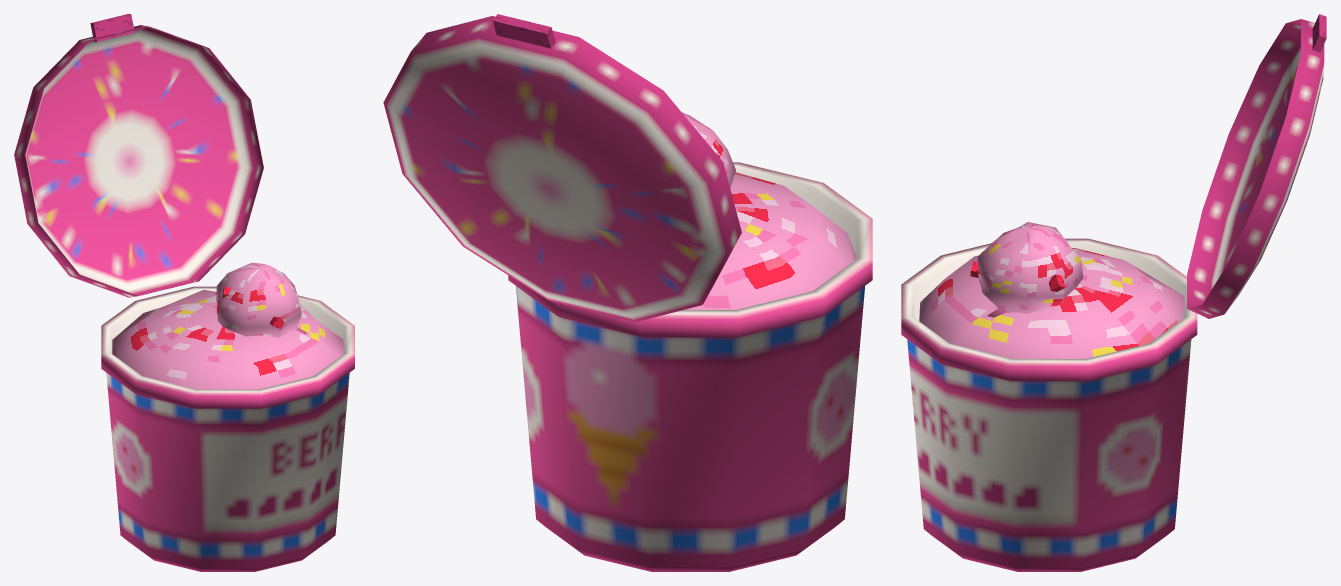
Rendered from Flavor Tub Strawberry.fbx.
3 renders of one model, left to right at view 1: azimuth 30°, elevation 25°; view 2: azimuth 150°, elevation 25°; view 3: azimuth 270°, elevation 25°, orthographic. The views are drawn at different scales.
Parts seen in each view (by area): view 1: Flavor Tub Strawberry lid, Flavor Tub Strawberry tub, Flavor Tub Strawberry ice cream, Flavor Tub Strawberry swirl, Flavor Tub Strawberry lid tab; view 2: Flavor Tub Strawberry tub, Flavor Tub Strawberry lid, Flavor Tub Strawberry ice cream, Flavor Tub Strawberry lid tab, Flavor Tub Strawberry swirl; view 3: Flavor Tub Strawberry tub, Flavor Tub Strawberry lid, Flavor Tub Strawberry ice cream, Flavor Tub Strawberry swirl.
Boxes of the visible parts, x1,y1,x2,y2 form: Flavor Tub Strawberry lid: (14,25,263,297); Flavor Tub Strawberry tub: (101,286,354,571); Flavor Tub Strawberry ice cream: (112,289,343,389); Flavor Tub Strawberry swirl: (216,262,306,337); Flavor Tub Strawberry lid tab: (90,14,134,41); Flavor Tub Strawberry tub: (508,162,872,571); Flavor Tub Strawberry lid: (383,16,741,321); Flavor Tub Strawberry ice cream: (684,172,855,309); Flavor Tub Strawberry lid tab: (493,14,555,48); Flavor Tub Strawberry swirl: (682,112,735,187); Flavor Tub Strawberry tub: (901,238,1197,571); Flavor Tub Strawberry lid: (1187,19,1324,318); Flavor Tub Strawberry ice cream: (919,248,1184,358); Flavor Tub Strawberry swirl: (977,222,1083,317).
Size of the model in its own units: 0.3033 by 0.5406 by 0.4191.
5 materials, 5 textured.
